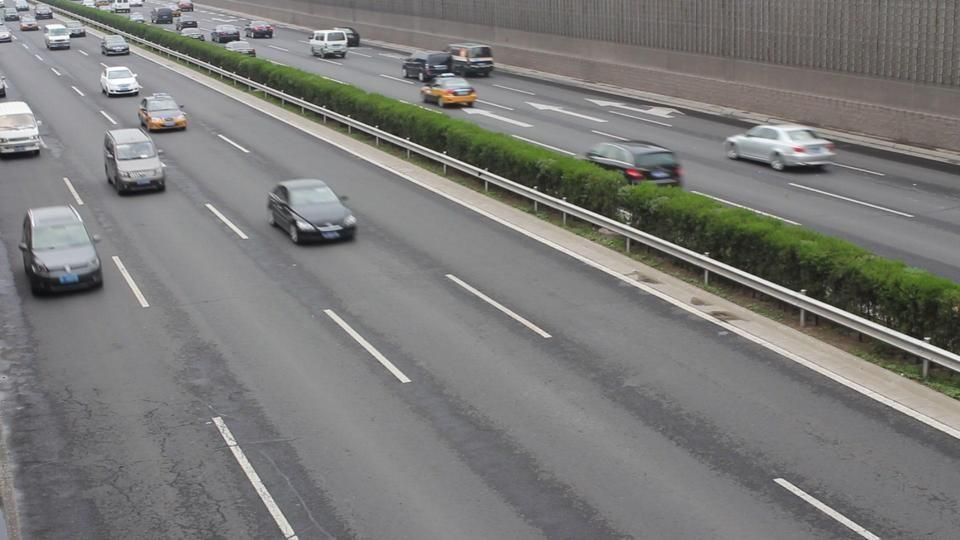car: (18, 204, 104, 296), (266, 177, 359, 245), (723, 124, 838, 172), (585, 140, 686, 188), (103, 127, 168, 194), (0, 100, 45, 158), (136, 93, 189, 132), (418, 74, 478, 108), (446, 43, 494, 78), (403, 51, 452, 82), (99, 64, 142, 97), (0, 75, 8, 99)
